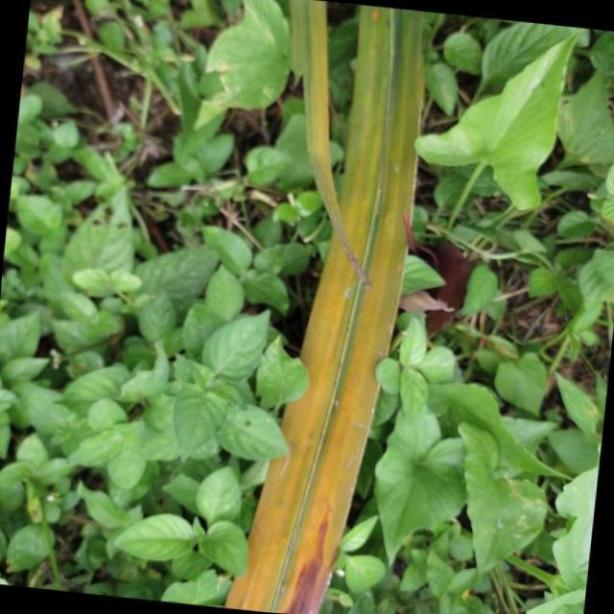Megnesium: (214, 0, 429, 614)
